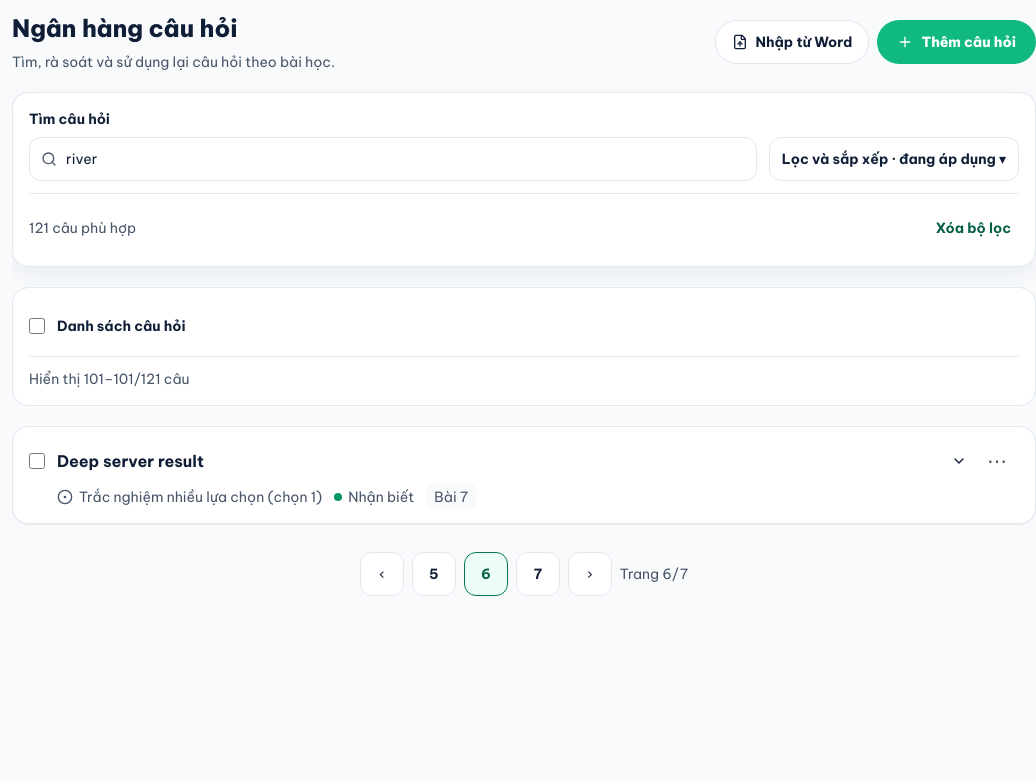
it: Teacher Question Bank server list › requests deep server pages with combined lesson, chapter, type, difficulty, search and sort
The image size is (1036, 780).
Click the button named "Trang câu hỏi sau". click: (590, 574)
box: [568,552,612,596]
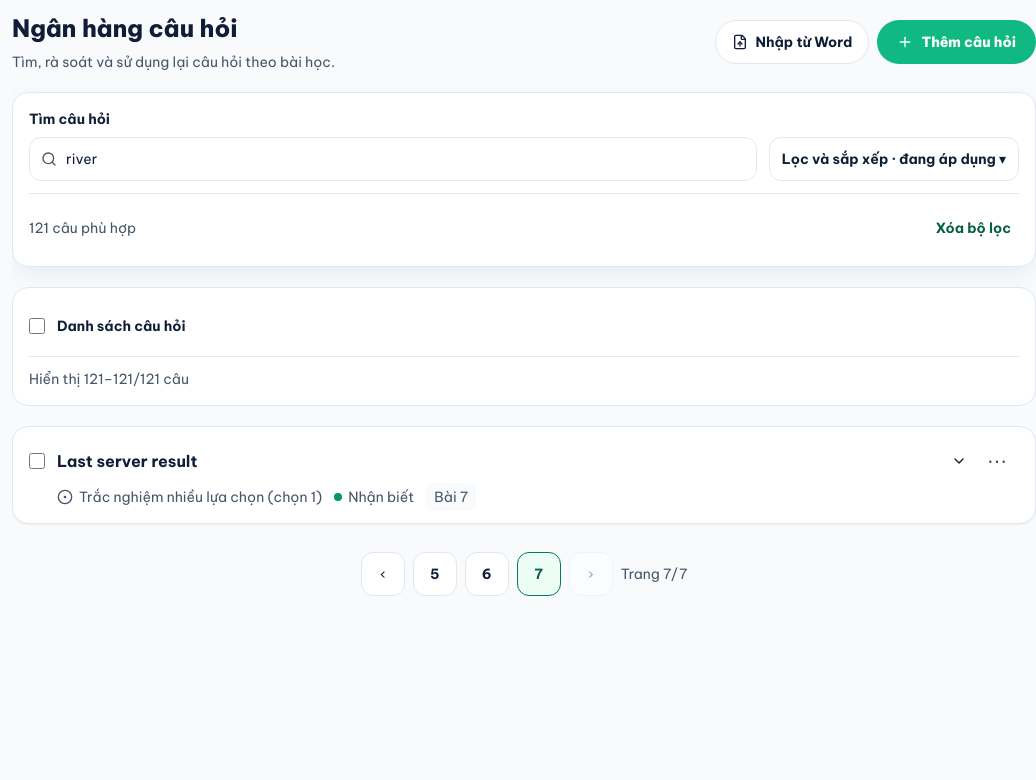
Expected: the text "Last server result" is shown, [57,449,197,473]
